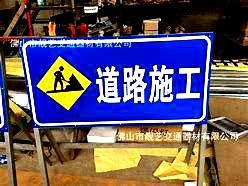sign: (23, 35, 211, 124)
